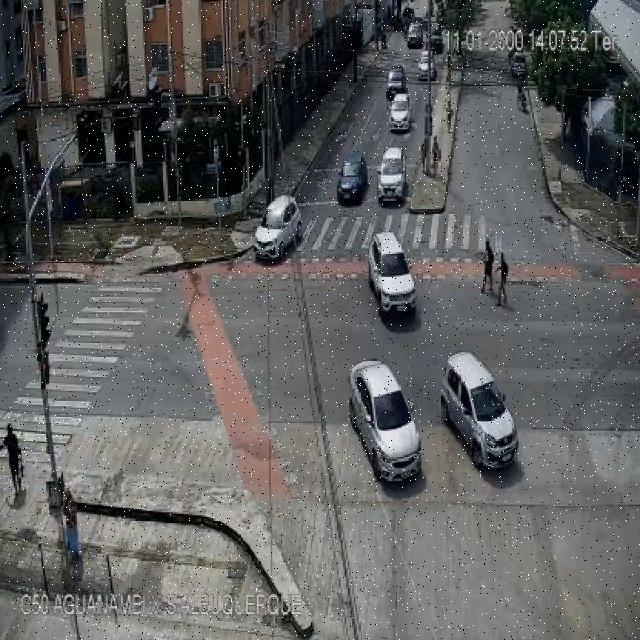Car: (348, 360, 422, 482), (441, 353, 518, 469), (368, 231, 417, 315), (253, 195, 303, 262), (336, 151, 368, 203), (377, 148, 407, 203), (388, 95, 412, 132), (385, 67, 407, 99), (417, 53, 437, 81), (406, 20, 424, 48), (510, 51, 527, 79), (429, 26, 443, 53)
